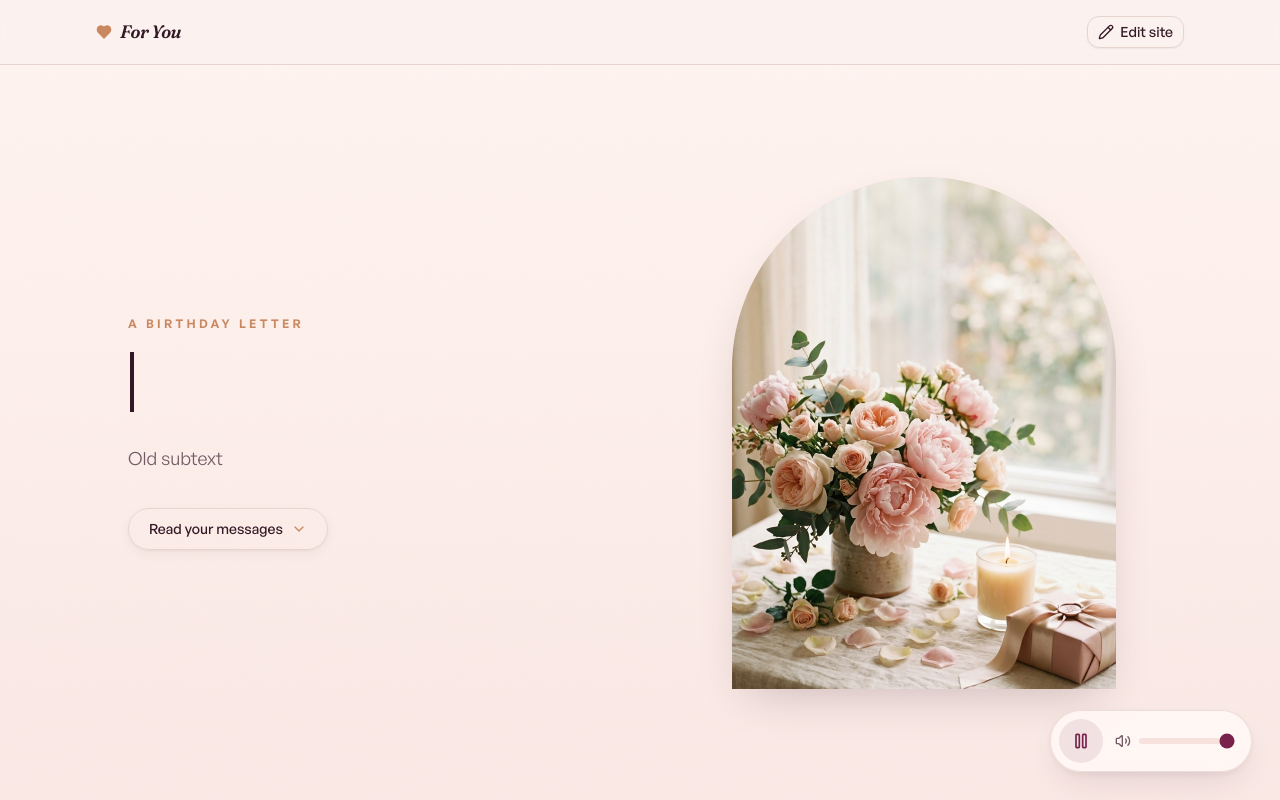
Test case: owner editing journey › reflects a saved greeting on the public site after the owner edits it
The image size is (1280, 800).
// The owner opens the panel from the public site.
Click the button with test id "owner.open_button".
click(1136, 32)  # box [1087,16,1184,48]
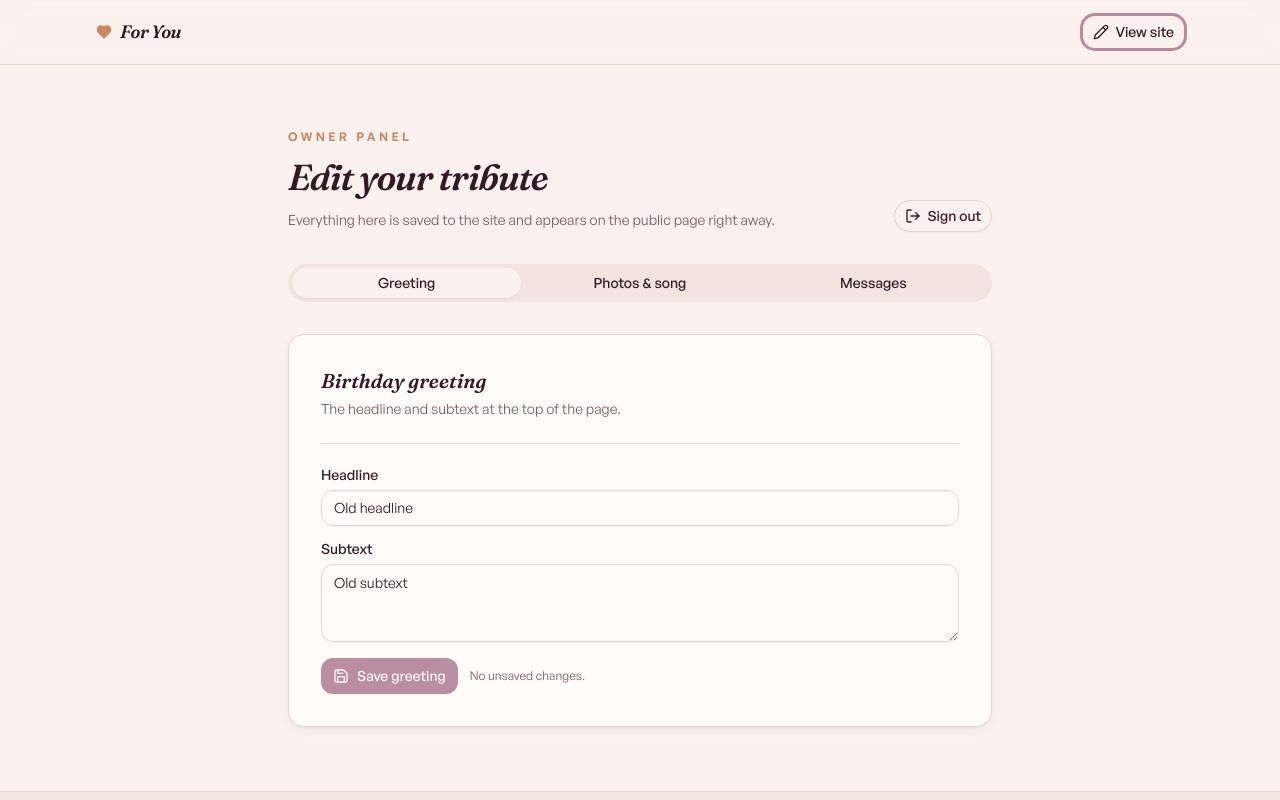
Replace the text in the field with test id "owner.greeting.headline_input" with "New headline" at [640, 508], box [321,490,959,526]
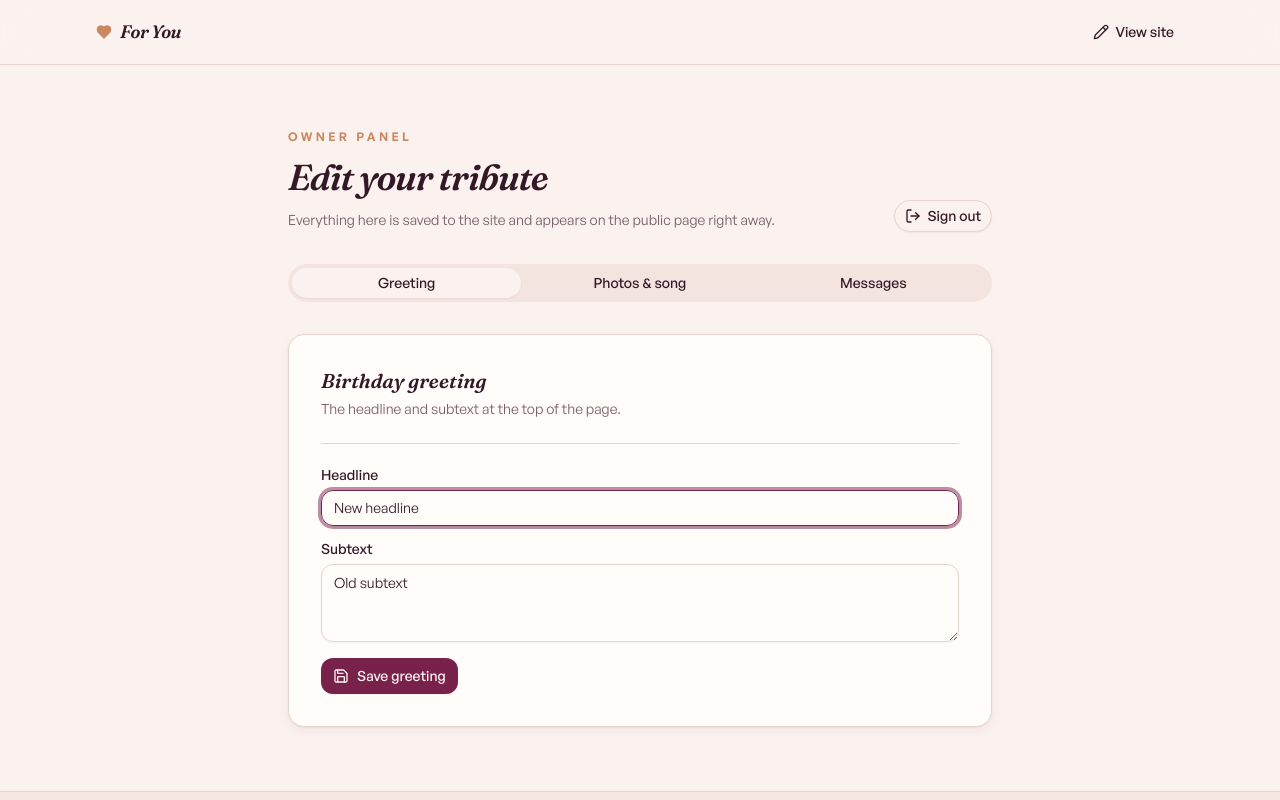
Replace the text in the text box with test id "owner.greeting.subtext_input" with "New subtext" at [640, 603], box [321,564,959,642]
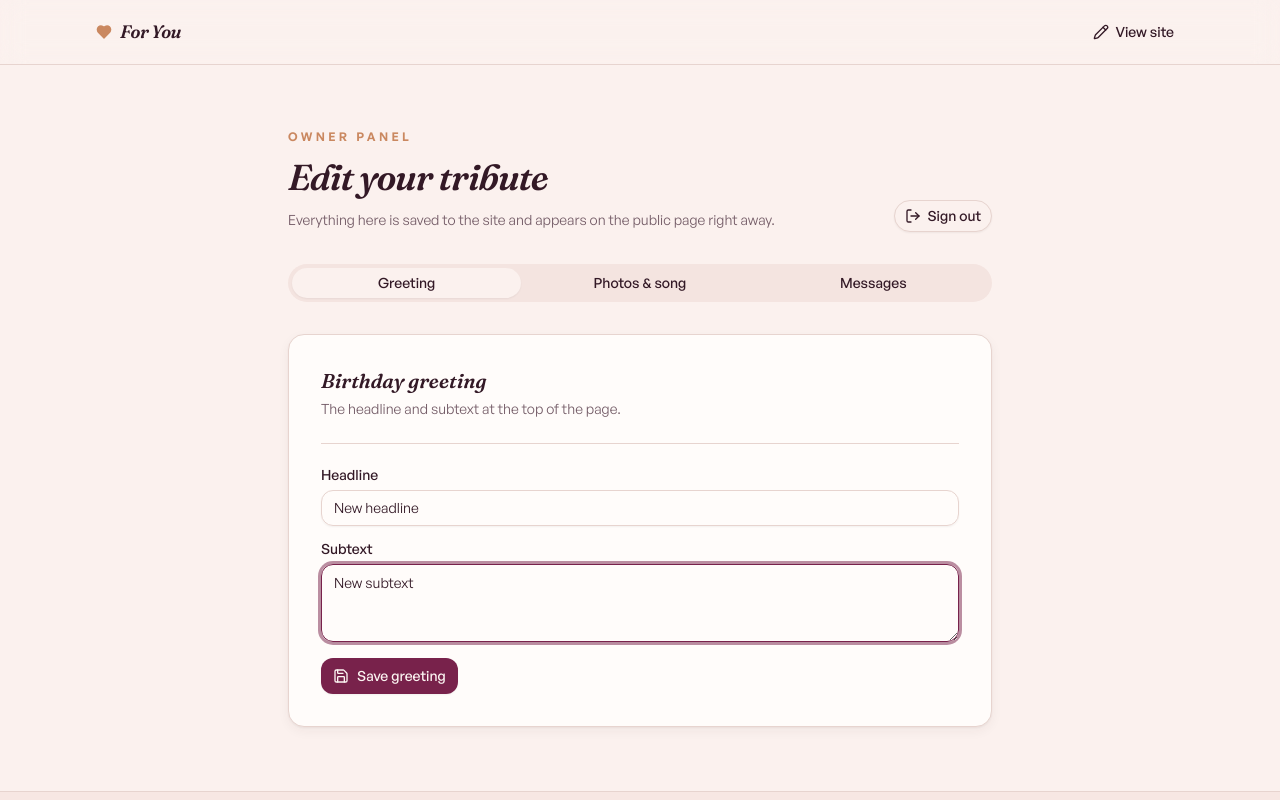
Click the button with test id "owner.greeting.save_button".
click(389, 676)  # box [321,658,458,694]
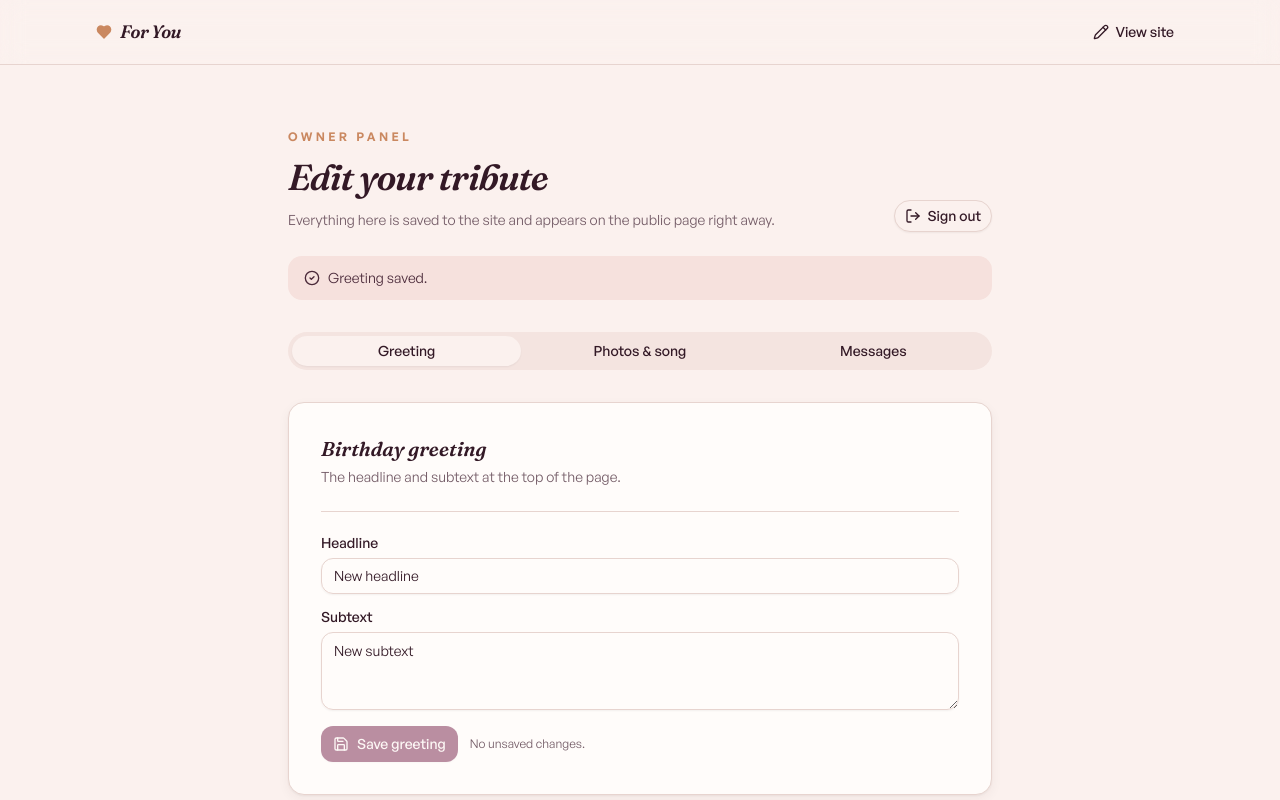
// Returning to the public site shows the saved greeting, not the old one.
Click the button with test id "owner.open_button".
click(1134, 32)  # box [1083,16,1184,48]
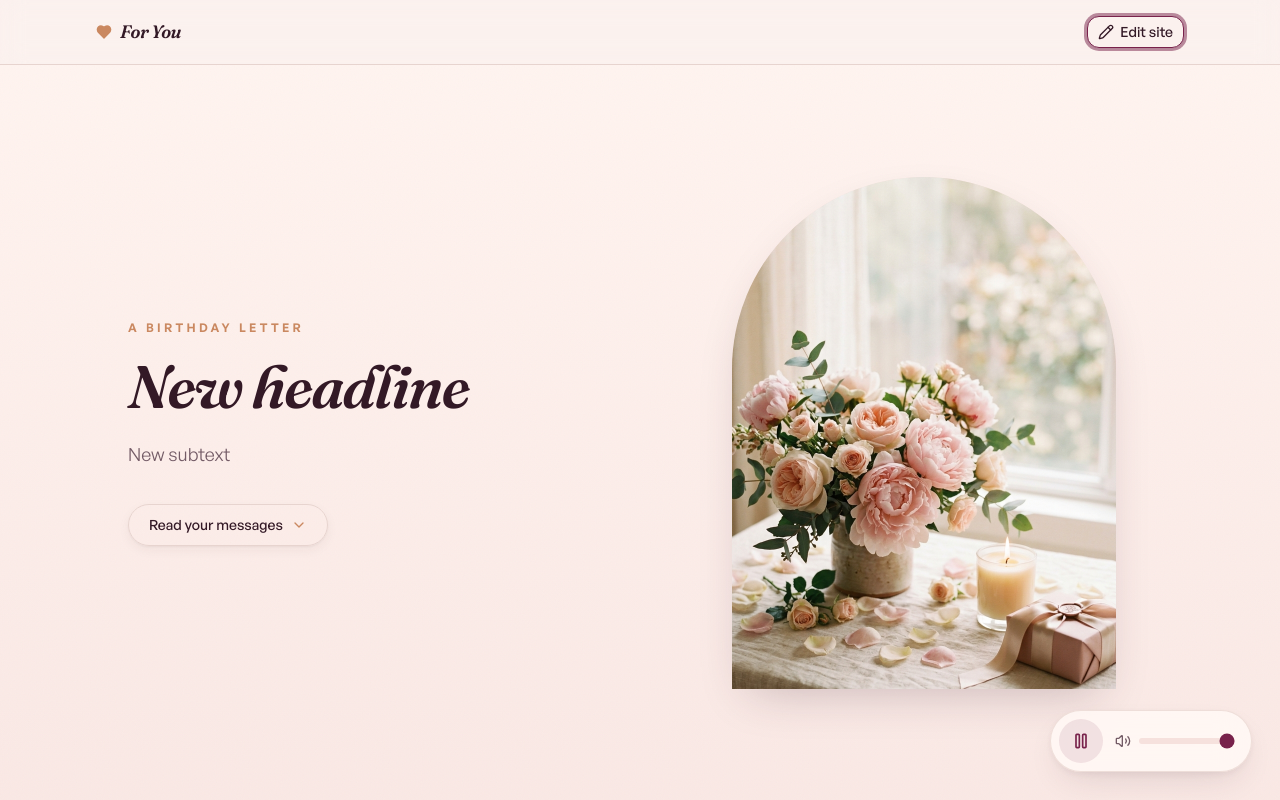
Expected: the text "New headline" is shown, [128,349,469,423]
Expected: the field "Old headline" is gone
